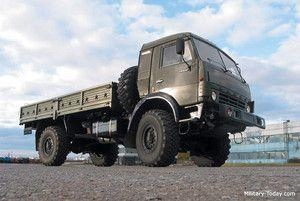ambulance: (18, 33, 253, 166)
